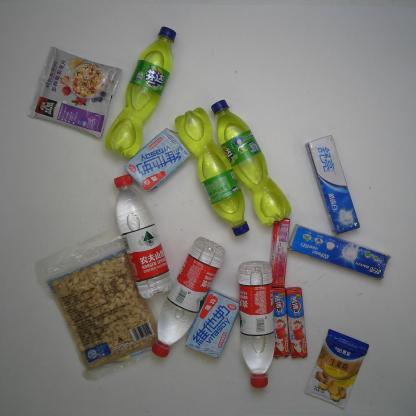Candy: (280, 284, 311, 362), (264, 286, 292, 362), (264, 214, 292, 289)
Dried Fruit: (27, 220, 170, 383)
Drink: (208, 96, 293, 227), (172, 104, 252, 238), (148, 231, 230, 361), (103, 24, 180, 162), (108, 172, 177, 302), (234, 258, 278, 390)
Instant Drink: (25, 42, 126, 140)
Milk: (121, 125, 193, 194), (183, 285, 242, 360)
Personal Hygiene: (284, 222, 393, 284), (302, 131, 362, 238)
Seasoner: (303, 326, 371, 411)
